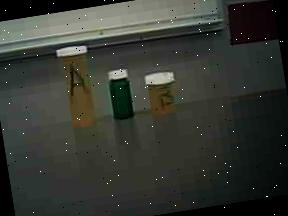Bottle A: (49, 39, 108, 139)
Bottle B: (142, 67, 184, 120)
Bottle C: (102, 65, 143, 126)
